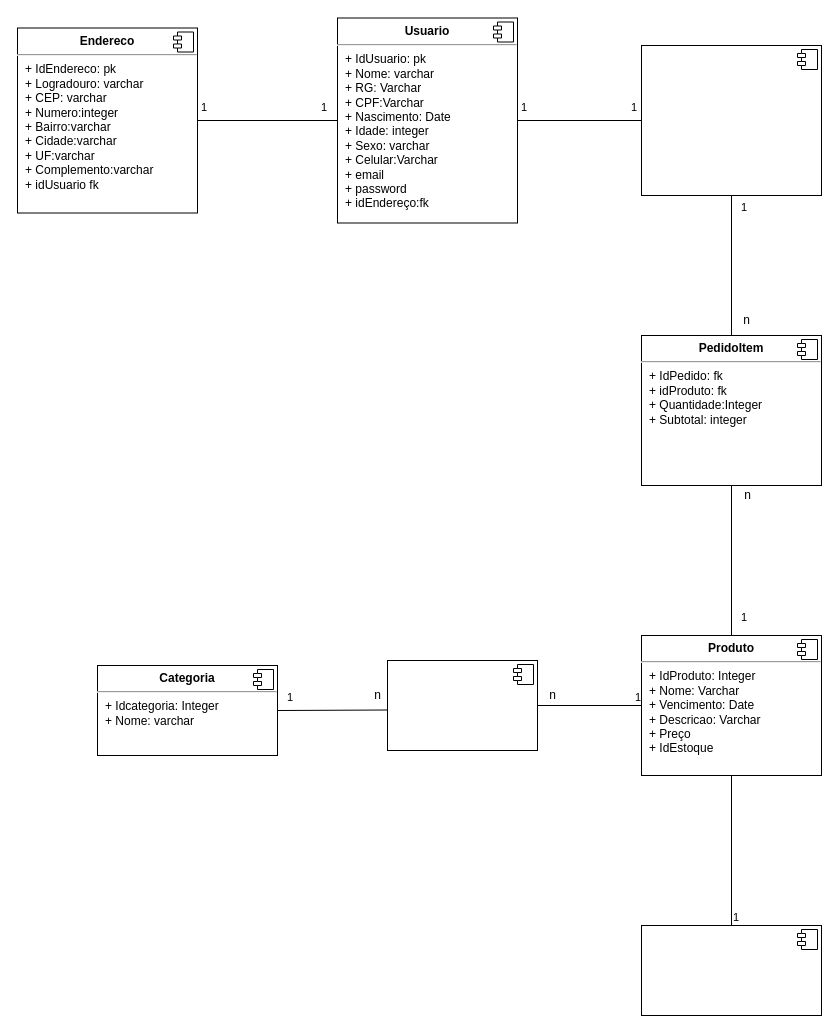
This 839x1033 diagram has some shape labels left out. The centre of each missing label's shape, as x and y in pixels:
CategoriaProduto + Idcategoria: fk + IdProduto: fk: pixel 462 705
Estoque + IdEstoque: integer + Quantidade: Integer + IdProduto: pixel 731 970
Pedidos + IdPedido: pk + ValorPedido: varchar + DataCompra: date + idUsuario:fk: pixel 731 120
